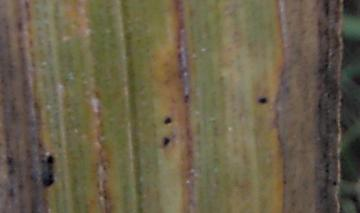tarspot: (40, 154, 56, 188), (5, 155, 16, 175), (322, 1, 332, 20), (256, 95, 269, 106), (7, 186, 15, 200), (162, 116, 173, 125), (162, 136, 171, 147), (182, 93, 189, 105), (35, 140, 43, 150), (331, 178, 338, 188)
